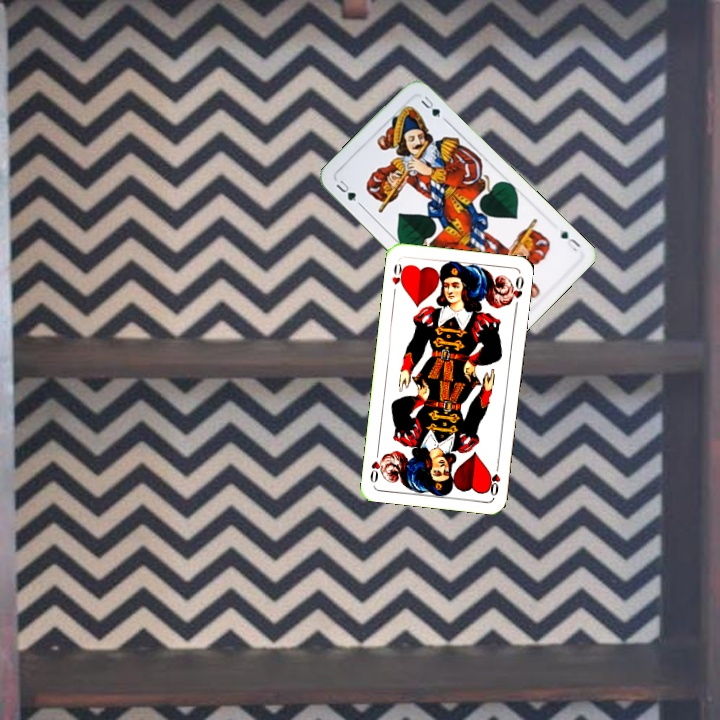GU: (332, 176, 364, 208), (555, 225, 583, 254)
HO: (388, 259, 408, 298), (484, 458, 503, 499)
